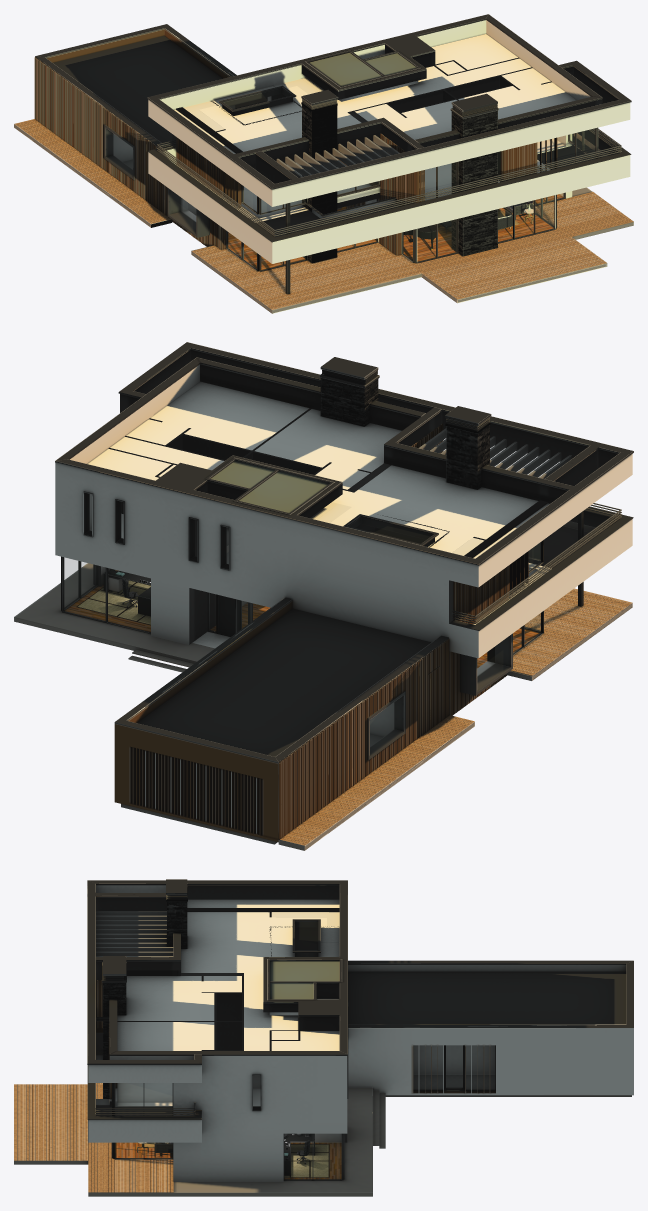
The model's file is villa_lisse_8_-_furniture_no_curtains.glb.
3 renders of one model, top to bottom at view 1: azimuth 30°, elevation 25°; view 2: azimuth 150°, elevation 25°; view 3: azimuth 270°, elevation 25°, orthographic. The views are drawn at different scales.
Parts seen in each view (by area): view 1: Walls Outside and 1st floor_116_Walls Outside and 1st floor_, Frame_105, Bottom floor_3, Terrace_115, walls backside space_108, Below terrace_125, Chimney_18, Floor gr fl_124, Glass_1, Walls gr floor 1_100, Living_Assemblies_05_452; view 2: Walls Outside and 1st floor_116_Walls Outside and 1st floor_, Bottom floor_3, walls backside space_108, Frame_105, Below terrace_125, Terrace_115, Office_Assemblies_18_268, Chimney_18, Floor gr fl_124, Glass_1; view 3: Bottom floor_3, Walls Outside and 1st floor_116_Walls Outside and 1st floor_, walls backside space_108, Frame_105, Below terrace_125, Terrace_115, Office_Assemblies_18_268, Floor gr fl_124, Chimney_18, Walls gr floor 1_100.
Part boxes in pixels (<box>): Walls Outside and 1st floor_116_Walls Outside and 1st floor_: <box>148,20,630,263</box>; Frame_105: <box>35,14,631,294</box>; Bottom floor_3: <box>53,34,576,177</box>; Terrace_115: <box>14,119,633,309</box>; walls backside space_108: <box>34,29,602,255</box>; Below terrace_125: <box>14,124,633,313</box>; Chimney_18: <box>451,104,497,256</box>; Floor gr fl_124: <box>228,194,563,270</box>; Glass_1: <box>533,129,594,227</box>; Walls gr floor 1_100: <box>183,79,376,202</box>; Living_Assemblies_05_452: <box>438,201,536,233</box>; Walls Outside and 1st floor_116_Walls Outside and 1st floor_: <box>55,349,632,658</box>; Bottom floor_3: <box>88,381,571,844</box>; walls backside space_108: <box>114,423,512,842</box>; Frame_105: <box>55,342,633,763</box>; Below terrace_125: <box>14,513,632,850</box>; Terrace_115: <box>280,588,632,845</box>; Office_Assemblies_18_268: <box>77,568,150,625</box>; Chimney_18: <box>320,369,378,426</box>; Floor gr fl_124: <box>64,585,540,667</box>; Glass_1: <box>65,528,540,631</box>; Bottom floor_3: <box>96,899,631,1096</box>; Walls Outside and 1st floor_116_Walls Outside and 1st floor_: <box>88,879,347,1181</box>; walls backside space_108: <box>96,965,633,1142</box>; Frame_105: <box>87,880,633,1180</box>; Below terrace_125: <box>14,1033,385,1196</box>; Terrace_115: <box>14,1083,173,1192</box>; Office_Assemblies_18_268: <box>284,1133,329,1177</box>; Floor gr fl_124: <box>115,1142,341,1179</box>; Chimney_18: <box>96,976,126,1098</box>; Walls gr floor 1_100: <box>271,912,339,926</box>.
Bounding box in the file's own units: 20.6 × 9.32 × 29.2.
Materials: 17 (17 with a texture image).
